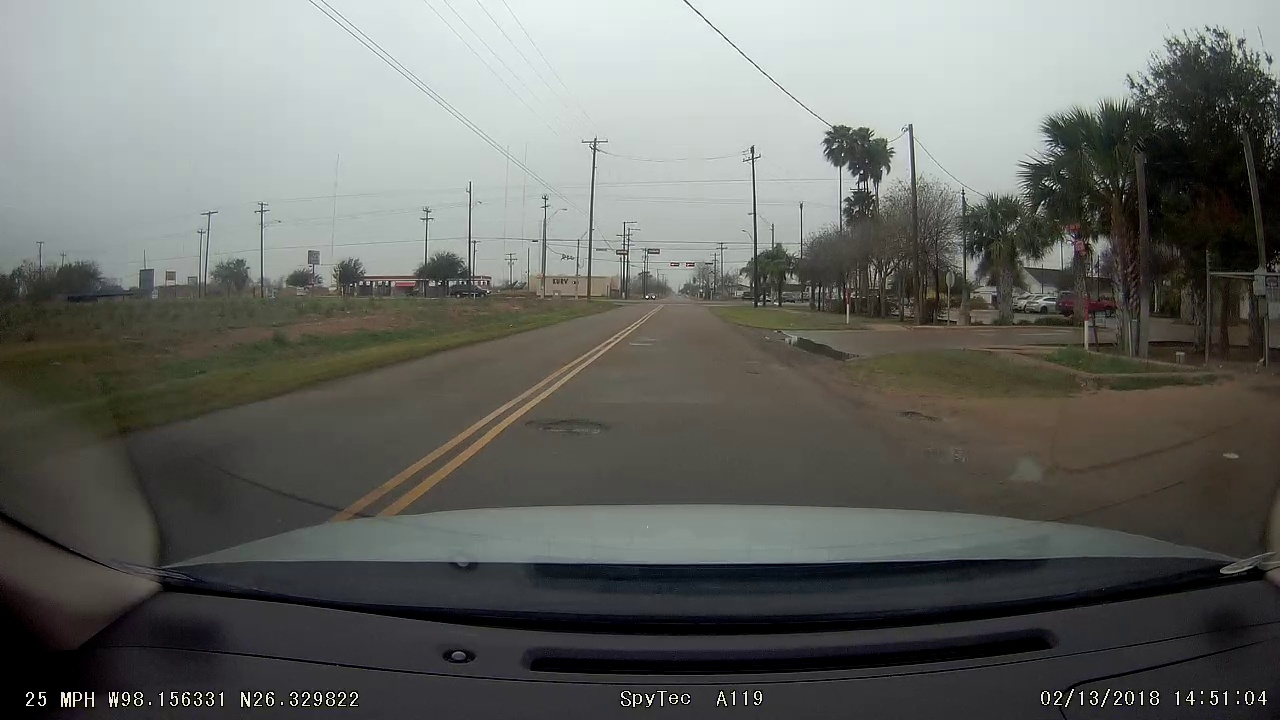manhole: (512, 396, 619, 454)
